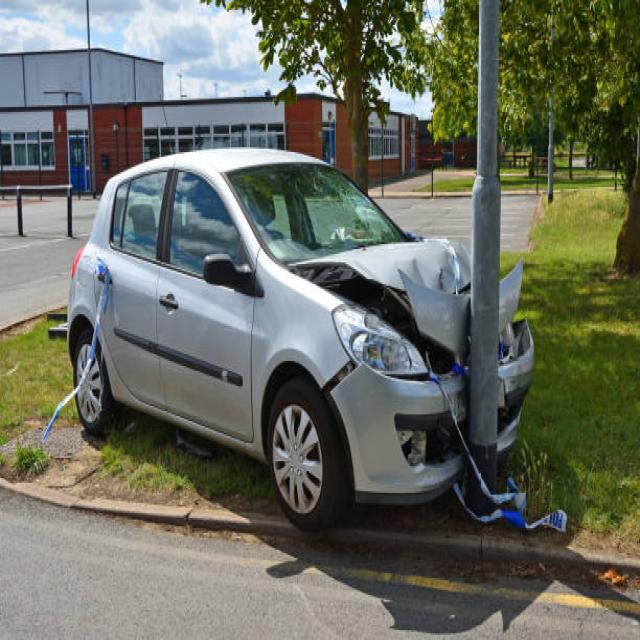Crack: (324, 359, 358, 399)
Dent: (285, 241, 470, 356), (496, 261, 533, 460)
